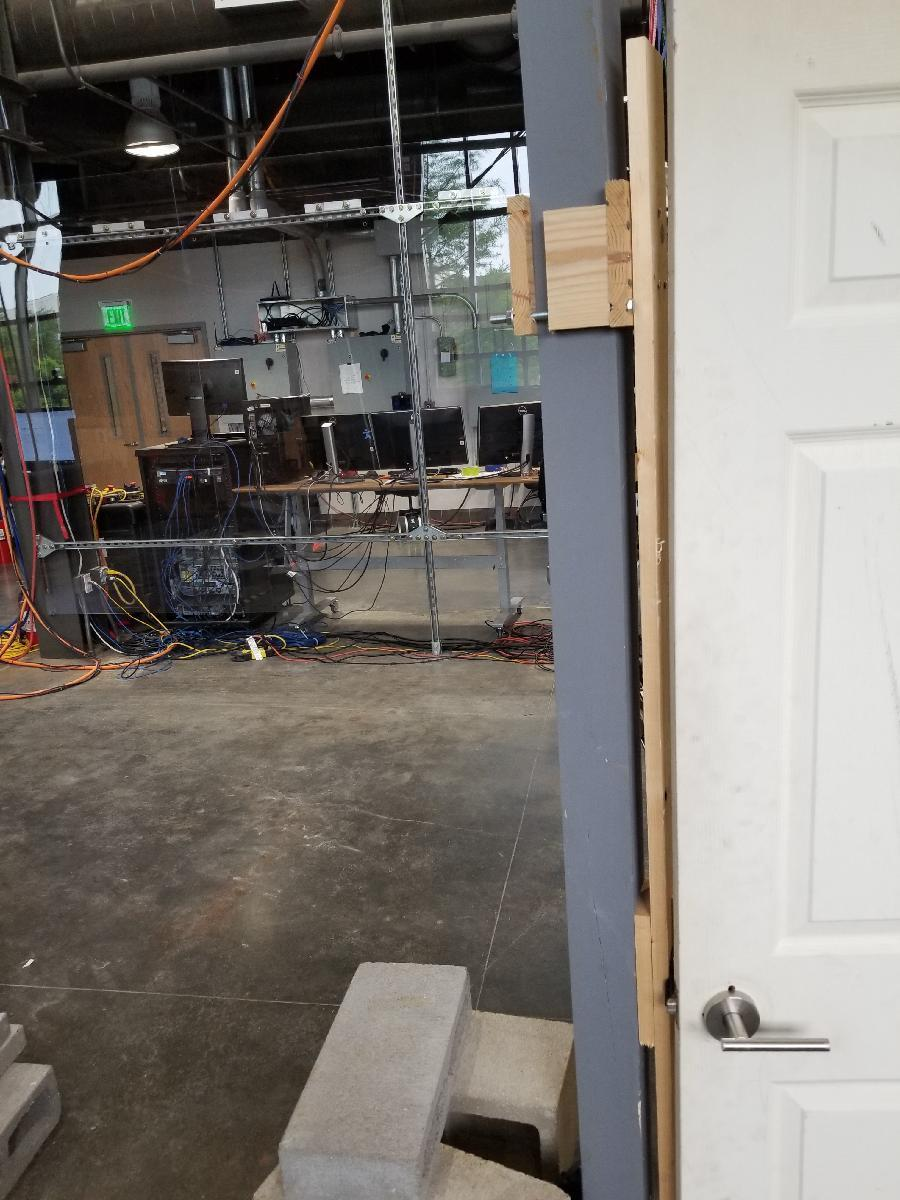door: (673, 0, 900, 1200)
handle: (706, 978, 835, 1061)
